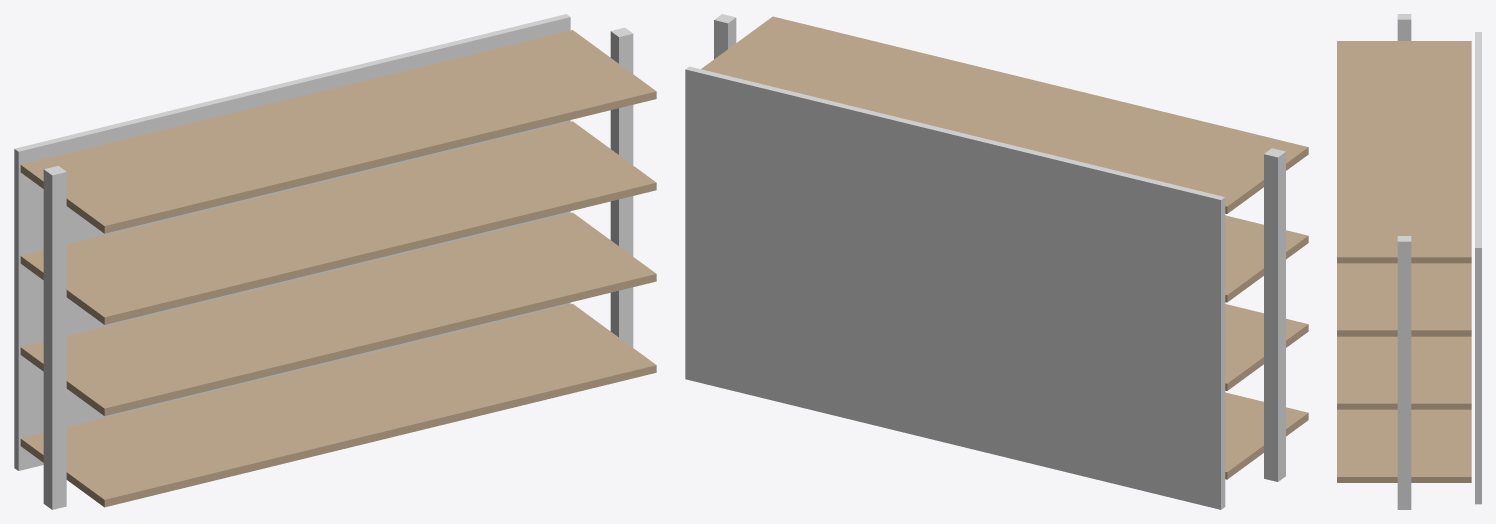
File: shelf.glb
The picture shows the model from 3 angles, left to right: view 1: azimuth 30°, elevation 25°; view 2: azimuth 150°, elevation 25°; view 3: azimuth 270°, elevation 25°; orthographic projection. The views are drawn at different scales.
Visible parts, largest first — view 1: Supermarket_Shelf; view 2: Supermarket_Shelf; view 3: Supermarket_Shelf.
Part boxes in pixels (box(x1,y1,x2,y2)): Supermarket_Shelf: box(14, 14, 656, 509); Supermarket_Shelf: box(685, 14, 1308, 509); Supermarket_Shelf: box(1337, 14, 1481, 509).
Size of the model in its own units: 4 by 2.2 by 1.07.
